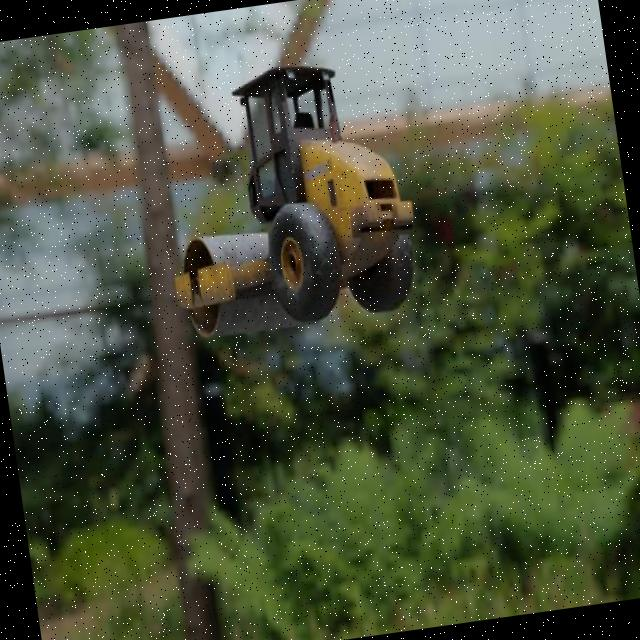Roller: (146, 50, 427, 342)
